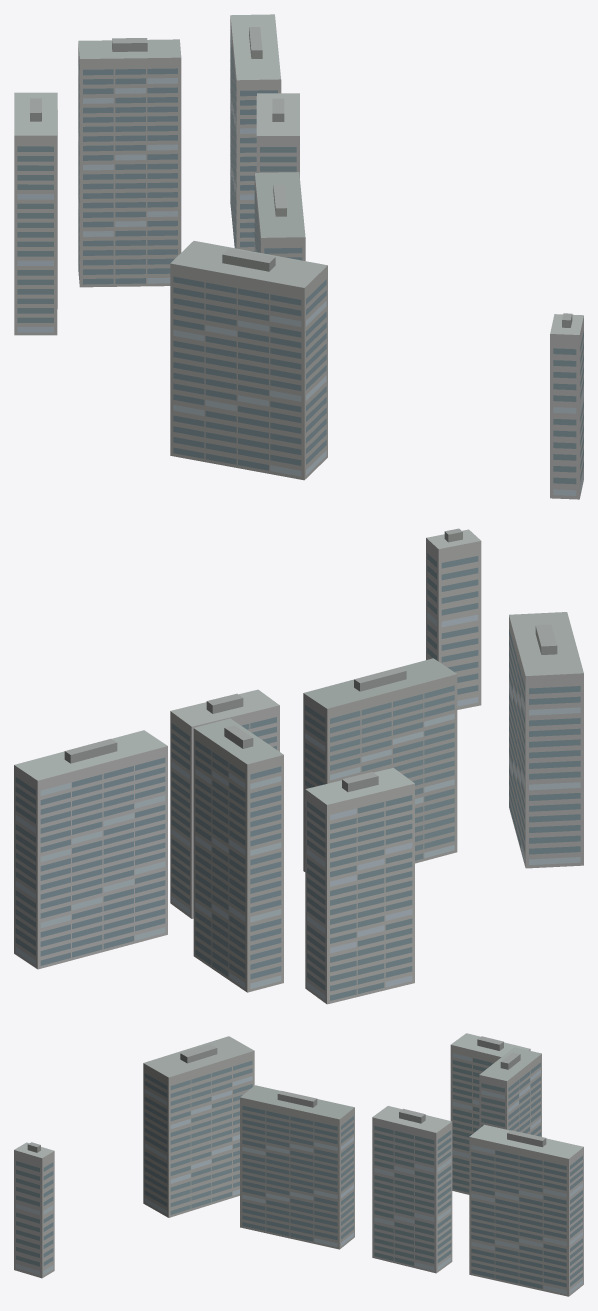
The model's file is apt-a15083703.glb.
The picture shows the model from 3 angles, top to bottom: view 1: azimuth 30°, elevation 25°; view 2: azimuth 150°, elevation 25°; view 3: azimuth 270°, elevation 25°; orthographic projection. The views are drawn at different scales.
Visible parts, largest first — view 1: apt-a15083703; view 2: apt-a15083703; view 3: apt-a15083703.
Boxes of the visible parts, x1,y1,x2,y2 form: apt-a15083703: (14, 14, 583, 499); apt-a15083703: (14, 528, 583, 1004); apt-a15083703: (14, 1033, 583, 1296).
Bounding box in the file's own units: 98.38 × 66 × 197.
